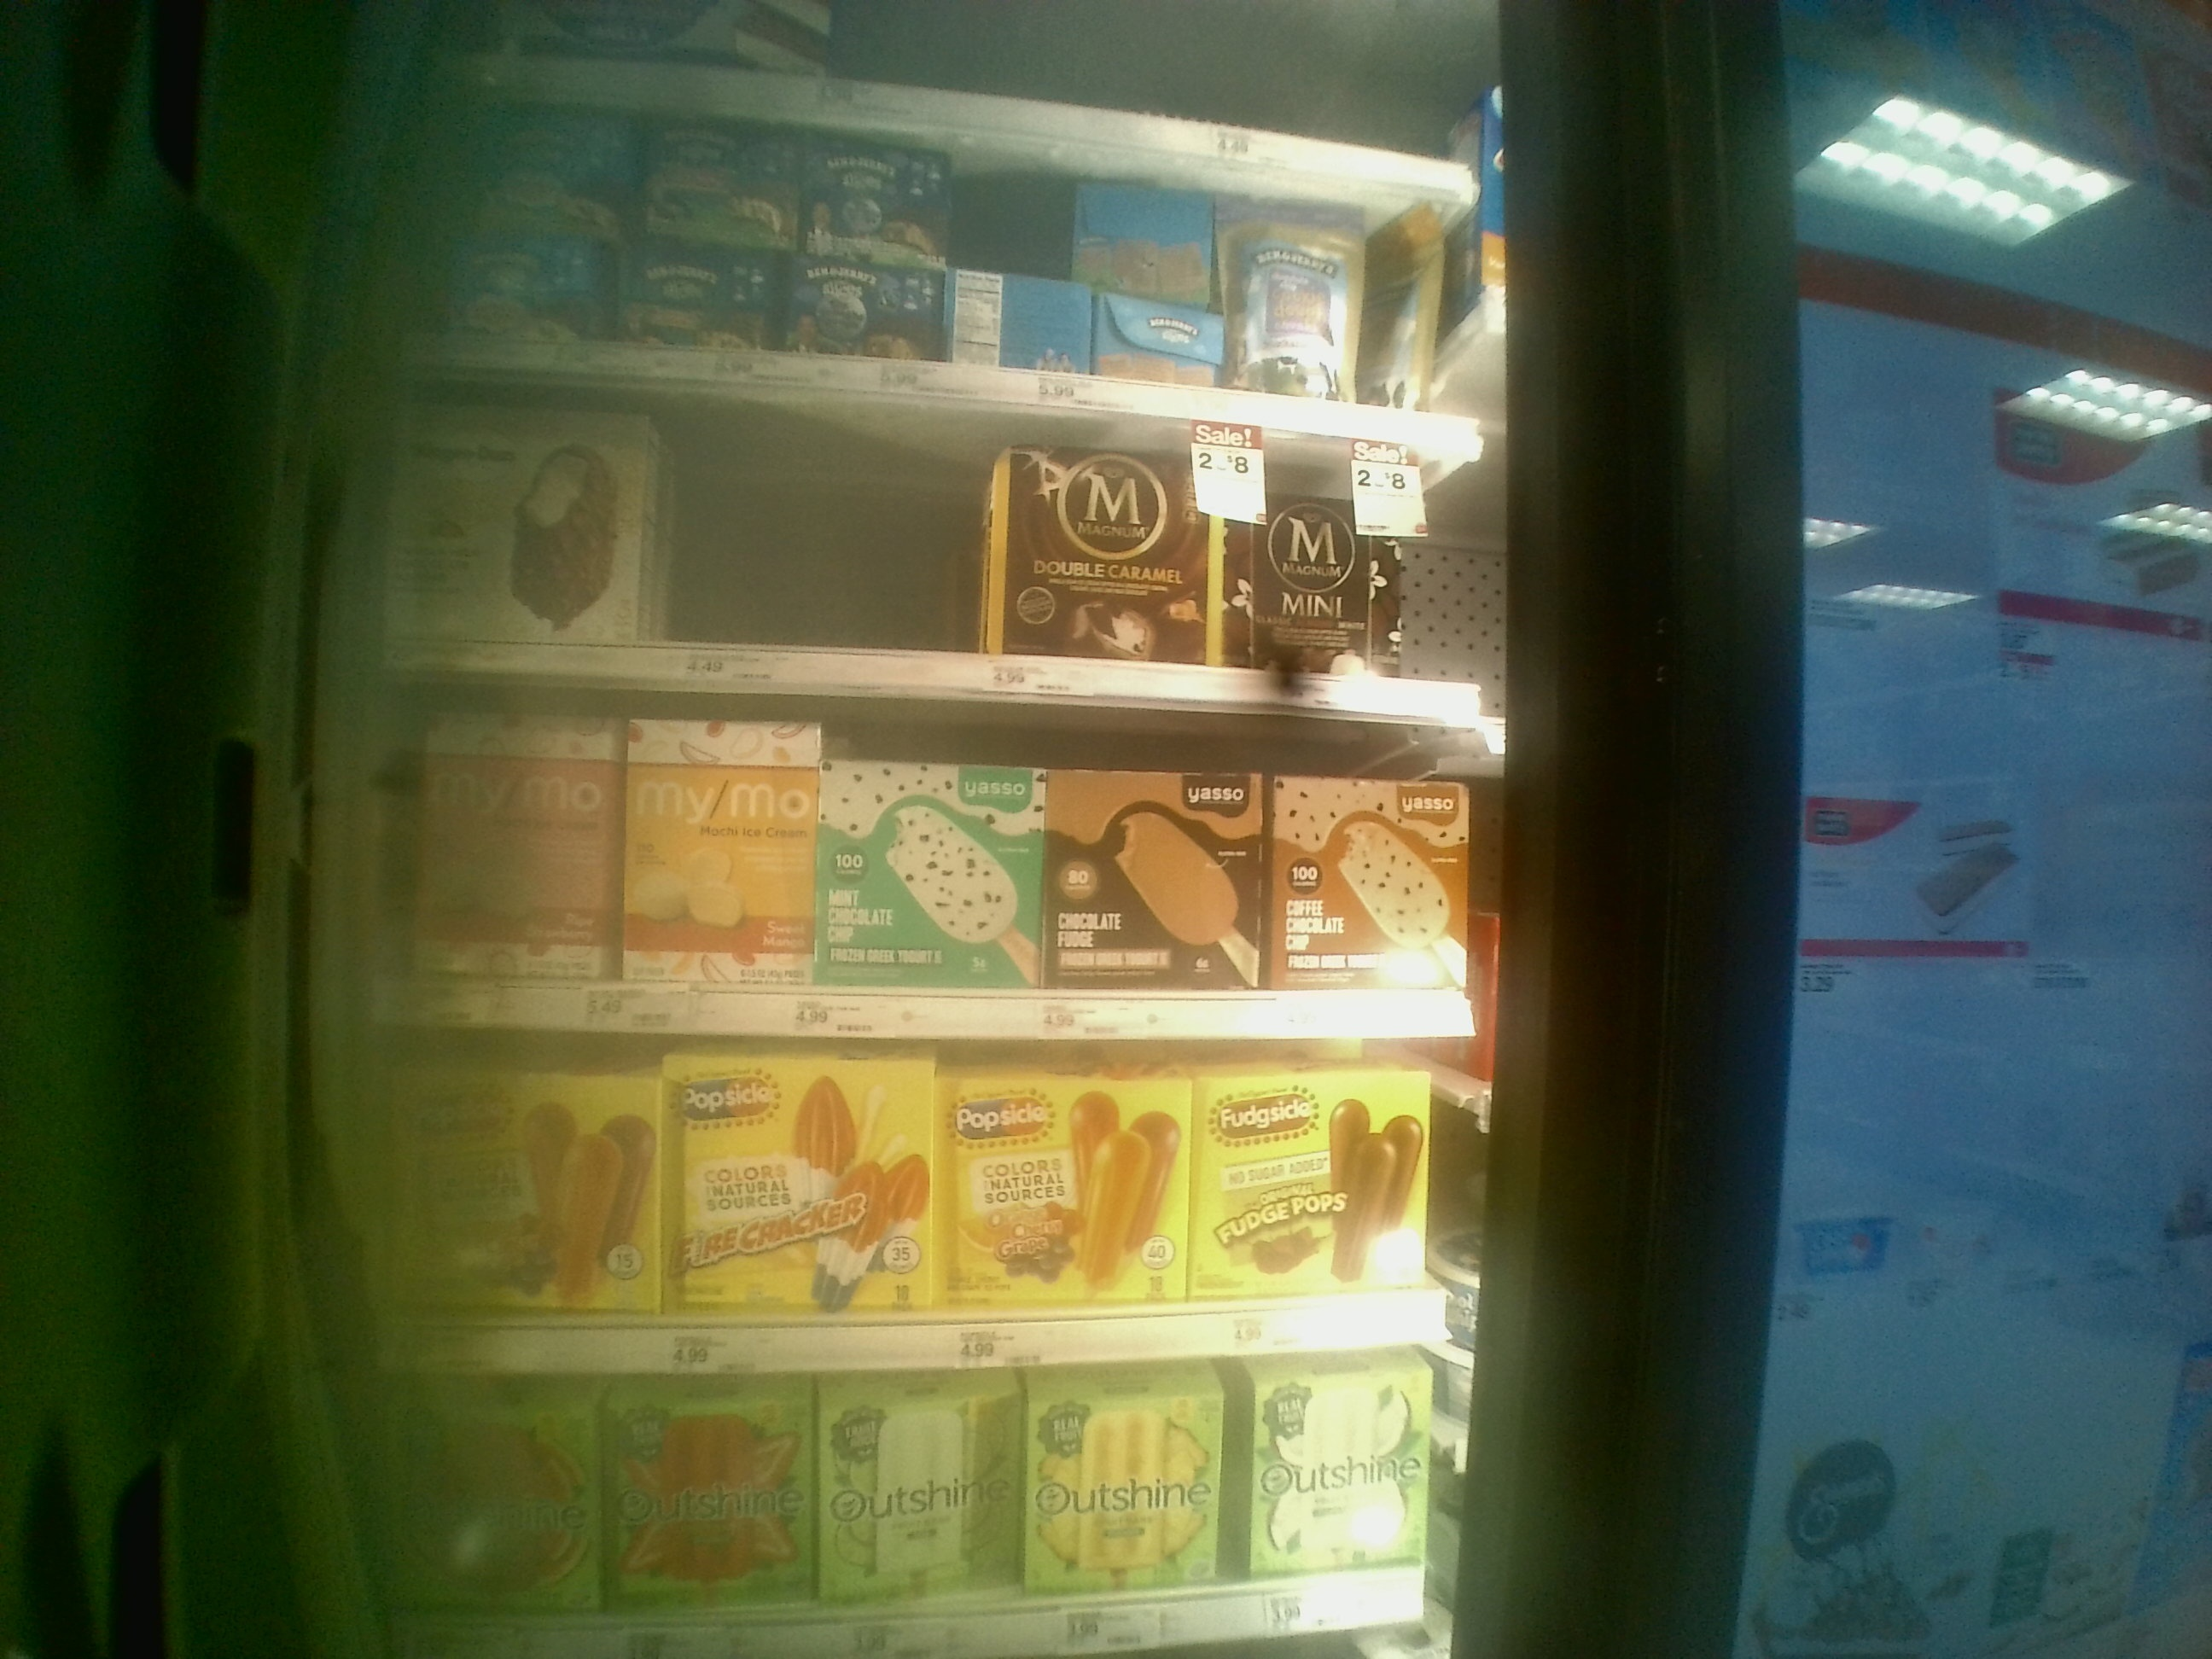ice-cream-shelf: (334, 676, 1484, 1035), (329, 1033, 1480, 1356)
